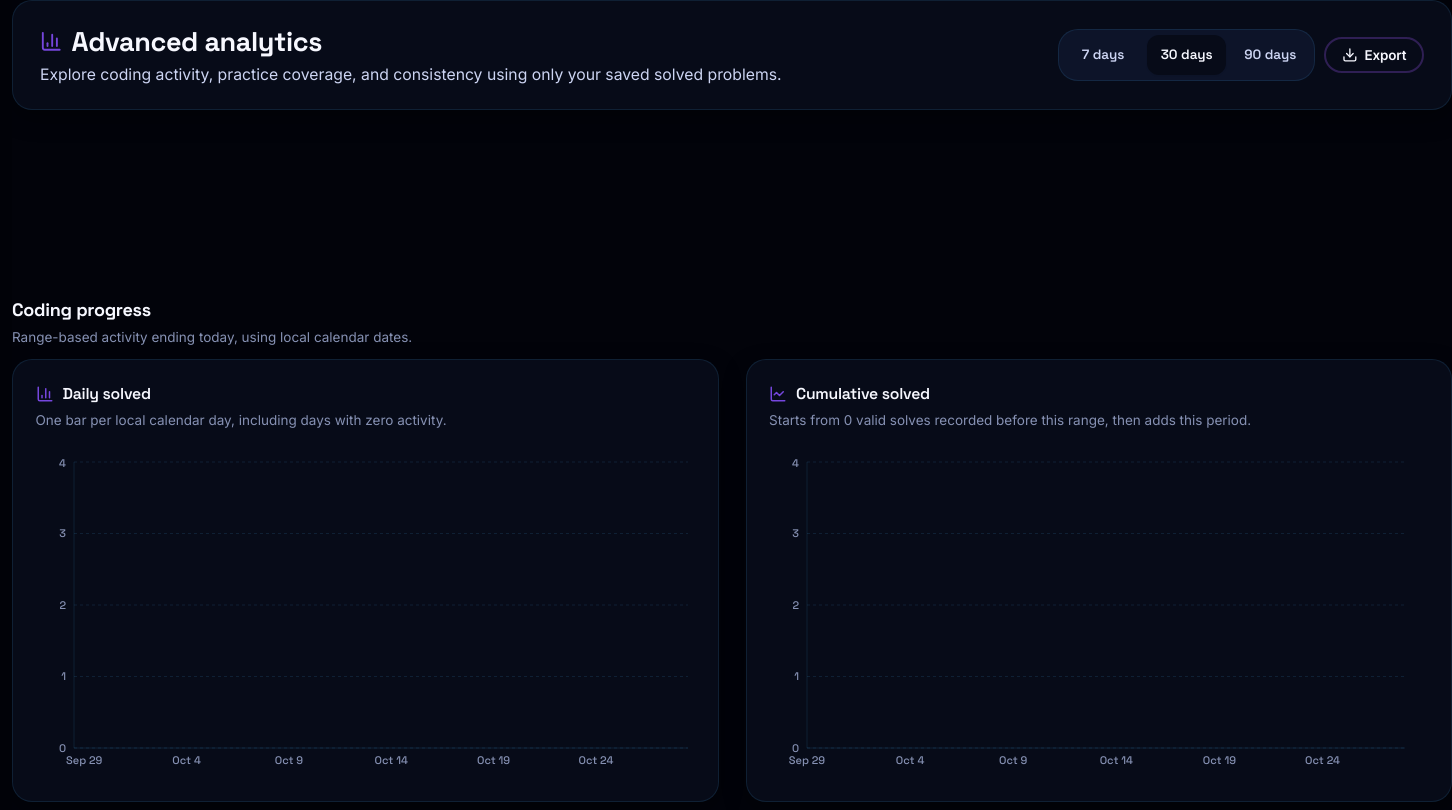
Test: Analytics page › uses the range selector for every range-derived summary
Click the button "7 days" at (1103, 55), box left=1064, top=35, right=1143, bottom=75
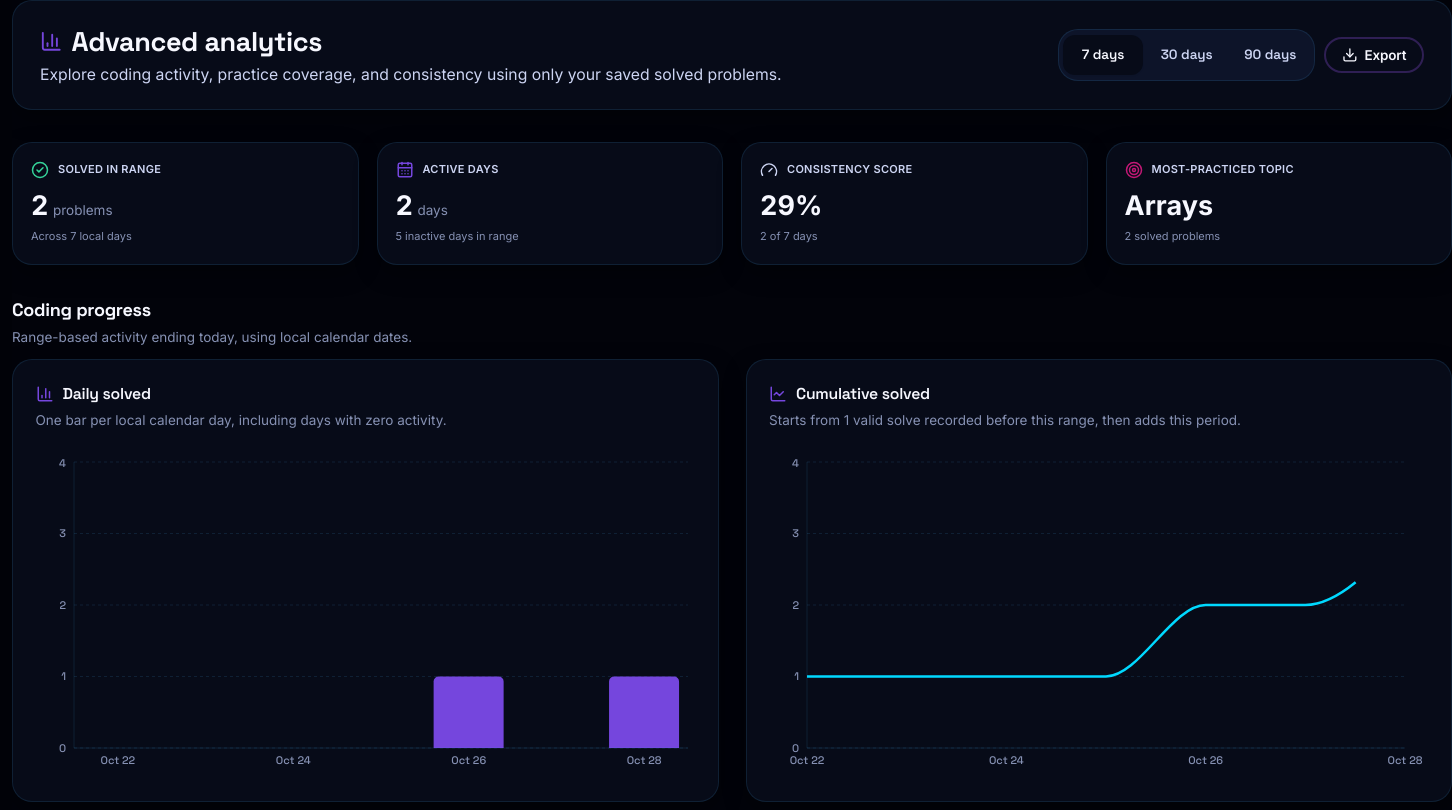
Check: the element named "Solved in range: 2 problems" is shown, box left=12, top=142, right=358, bottom=265
Check: the text "Across 7 local days" is shown, box left=31, top=229, right=132, bottom=243
